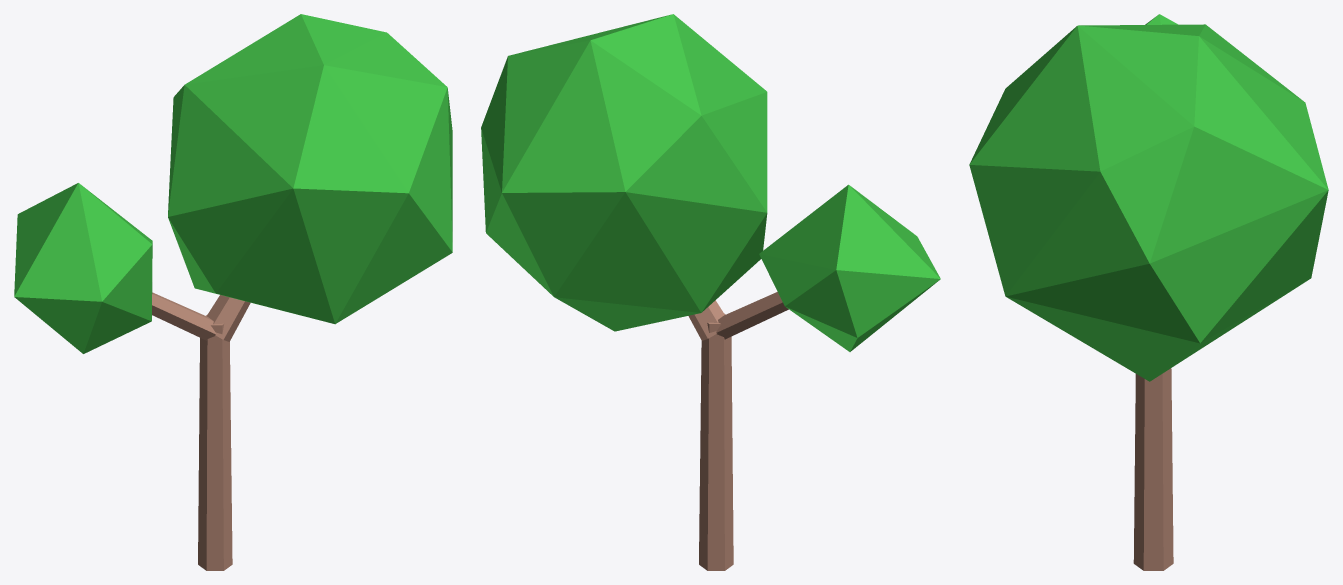
Rendered from tree_low-poly-double-trunk.dae.
The picture shows the model from 3 angles, left to right: view 1: azimuth 30°, elevation 25°; view 2: azimuth 150°, elevation 25°; view 3: azimuth 270°, elevation 25°; orthographic projection. The views are drawn at different scales.
Parts seen in each view (by area): view 1: Cylinder_002; view 2: Cylinder_002; view 3: Cylinder_002.
Boxes of the visible parts, x1,y1,x2,y2 form: Cylinder_002: (14, 14, 452, 570); Cylinder_002: (481, 14, 940, 570); Cylinder_002: (969, 14, 1328, 570).
Bounding box in the file's own units: 6.04 × 3.65 × 6.57.
